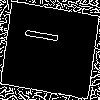I: (25, 25, 67, 47)
